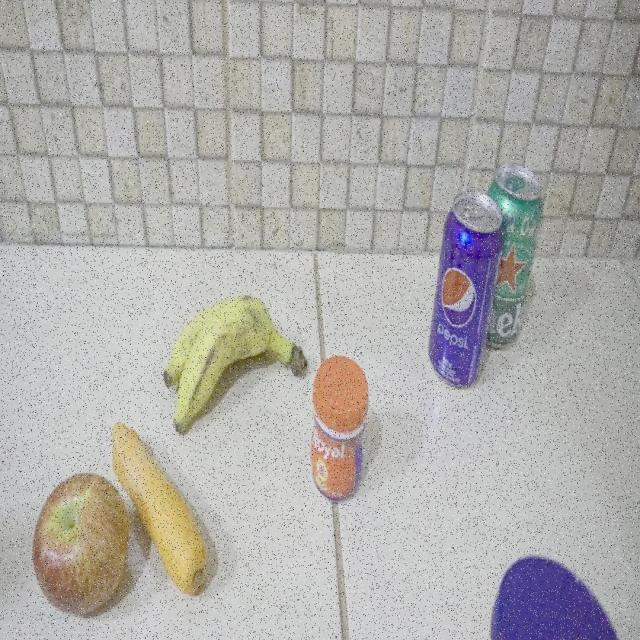Apple: (32, 474, 130, 616)
Banana: (163, 292, 308, 435)
BeerCan: (484, 163, 544, 350)
Carrot: (111, 420, 208, 599)
SodaCan: (429, 192, 503, 390)
Yeast: (310, 353, 370, 505)
